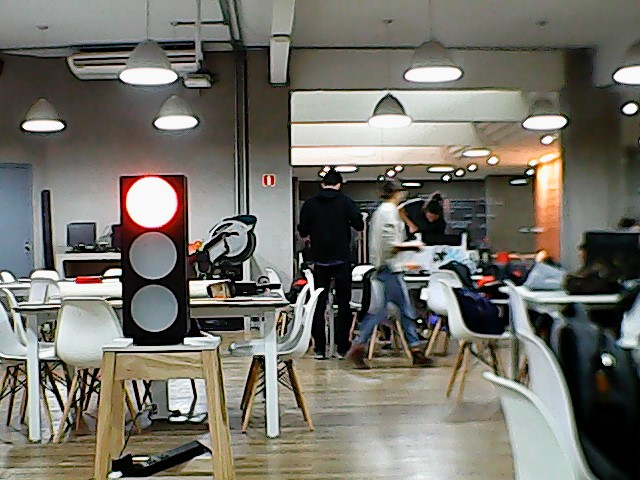vermelho: (116, 172, 194, 348)
